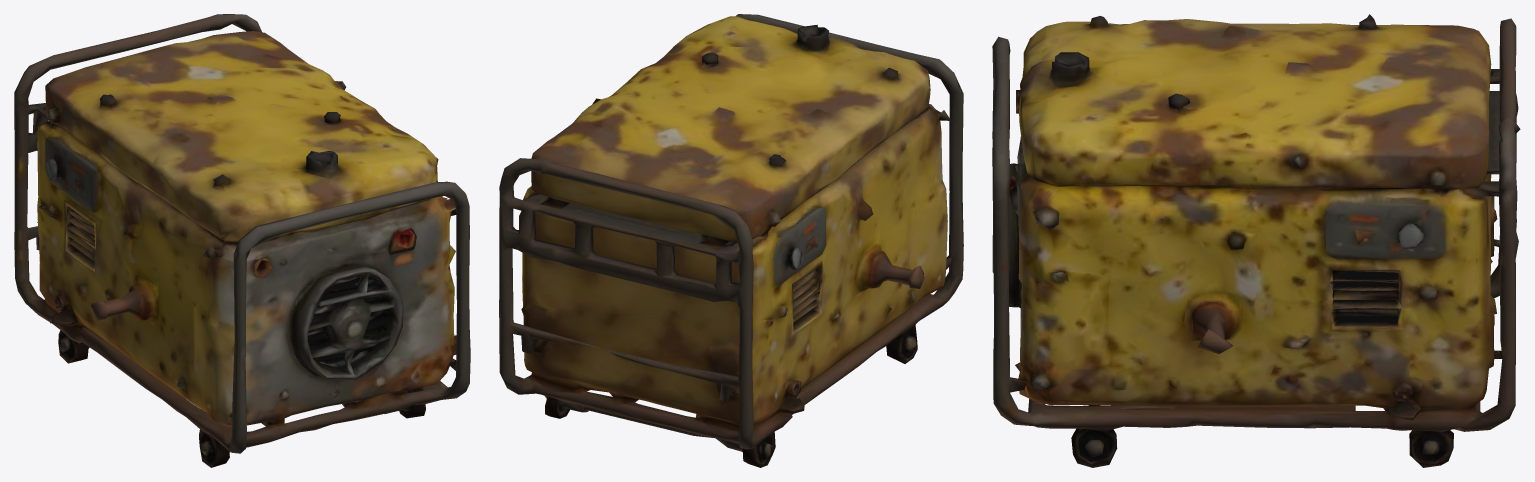
The model's file is generator.glb.
3 views of the same model, side by side, from view 1: azimuth 30°, elevation 25°; view 2: azimuth 150°, elevation 25°; view 3: azimuth 270°, elevation 25° (orthographic). The views are drawn at different scales.
Visible parts, largest first — view 1: tripo_node_666399ff-bb26-4d23-b2e6-5fbdaf39f978; view 2: tripo_node_666399ff-bb26-4d23-b2e6-5fbdaf39f978; view 3: tripo_node_666399ff-bb26-4d23-b2e6-5fbdaf39f978.
Boxes of the visible parts, box(x1,y1,x2,y2) form: tripo_node_666399ff-bb26-4d23-b2e6-5fbdaf39f978: box(14, 14, 470, 467); tripo_node_666399ff-bb26-4d23-b2e6-5fbdaf39f978: box(499, 14, 963, 467); tripo_node_666399ff-bb26-4d23-b2e6-5fbdaf39f978: box(992, 14, 1520, 467).
Bounding box in the file's own units: 0.8701 × 0.7265 × 1.
1 material, 1 textured.
